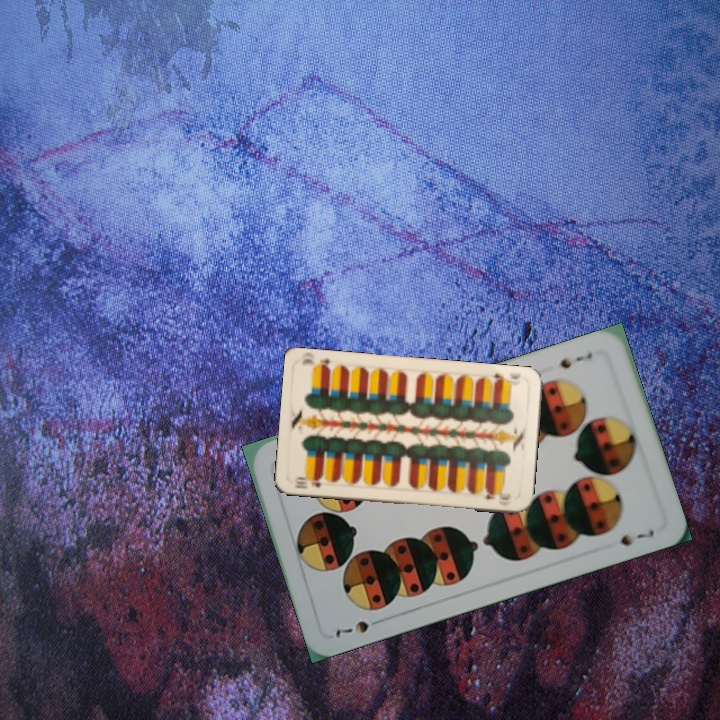E10: (488, 368, 523, 387), (290, 472, 324, 491)
S7: (331, 614, 386, 641), (556, 348, 595, 371)
